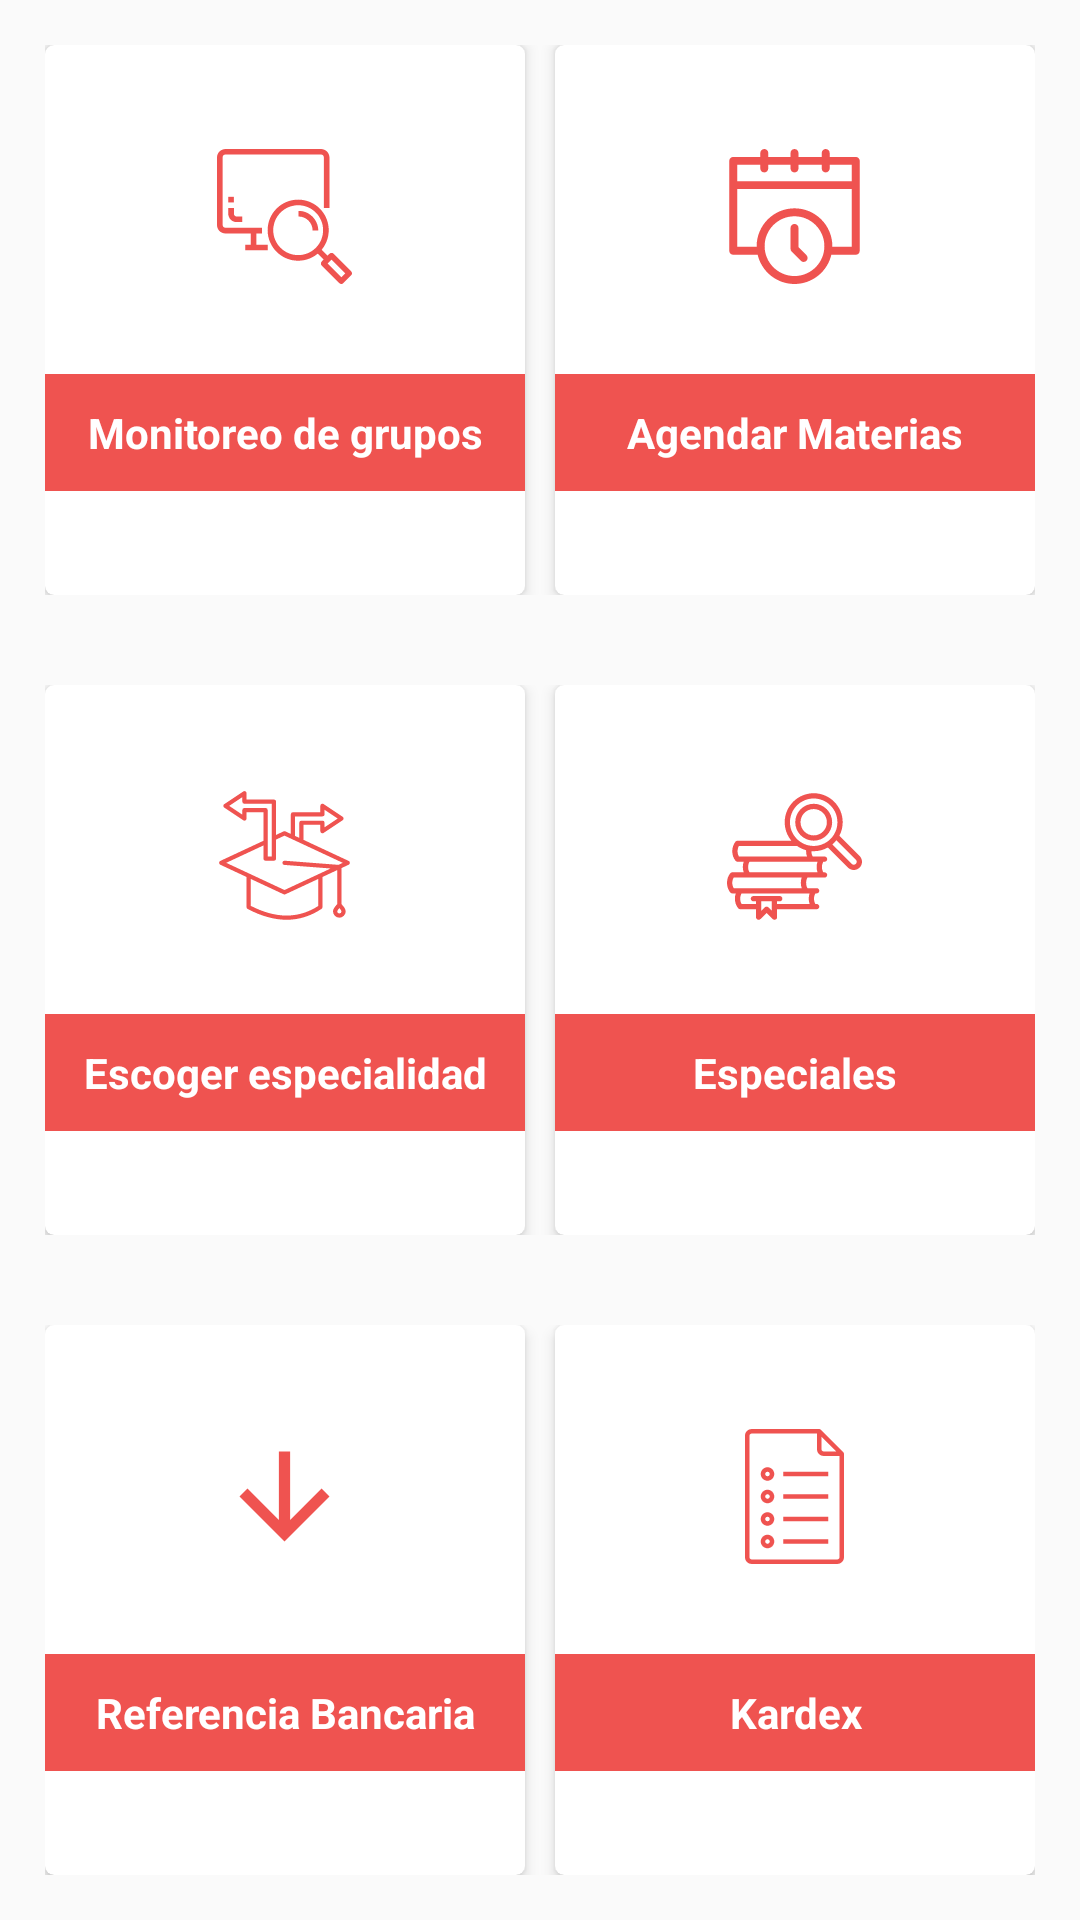

Icons on this 1080px x 1920px Android screen, each with the point to tap as (x=x, y=y):
descarga: (x=284, y=1496)
gorro de graduacion: (x=284, y=855)
